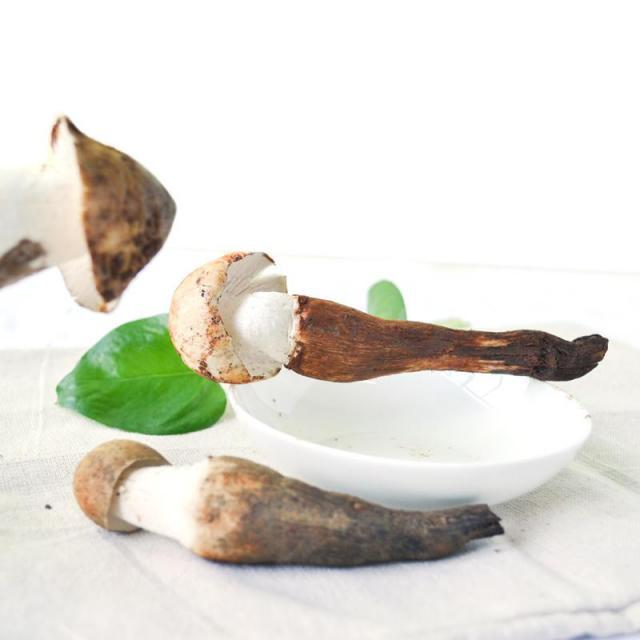Collybia albuminosa: (171, 245, 608, 386), (77, 439, 507, 570), (0, 118, 174, 314)
